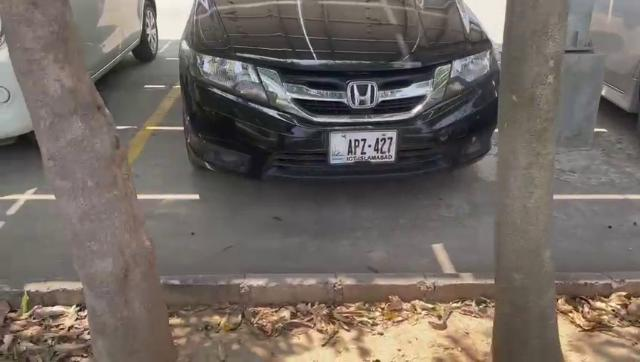plate: (328, 131, 398, 163)
